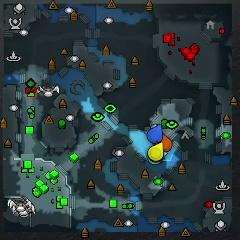p1: (148, 124, 163, 144)
p2: (148, 150, 167, 165)
p4: (148, 142, 163, 161)
p5: (157, 133, 172, 152)
